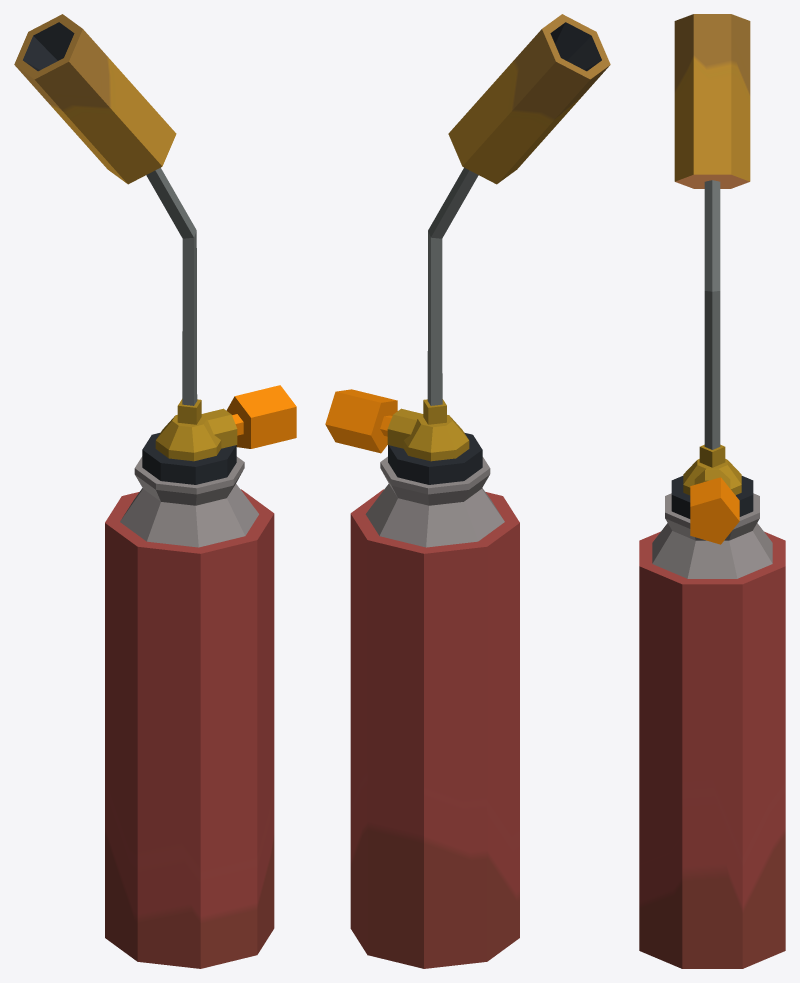
Rendered from SM_Gas_Burner.gltf.
The picture shows the model from 3 angles, left to right: view 1: azimuth 30°, elevation 25°; view 2: azimuth 150°, elevation 25°; view 3: azimuth 270°, elevation 25°; orthographic projection. The views are drawn at different scales.
Visible parts, largest first — view 1: SM_Gas_Burner; view 2: SM_Gas_Burner; view 3: SM_Gas_Burner.
Boxes of the visible parts, x1=… form: SM_Gas_Burner: x1=14, y1=14, x2=296, y2=968; SM_Gas_Burner: x1=325, y1=14, x2=610, y2=968; SM_Gas_Burner: x1=639, y1=14, x2=785, y2=968.
Bounding box in the file's own units: 0.1807 × 0.6229 × 0.0948.
Materials: 1 (1 with a texture image).
